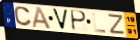A: (31, 6, 52, 30)
C: (14, 6, 34, 27)
L: (91, 12, 107, 34)
P: (70, 9, 88, 32)
V: (51, 7, 69, 31)
Z: (108, 14, 126, 36)
